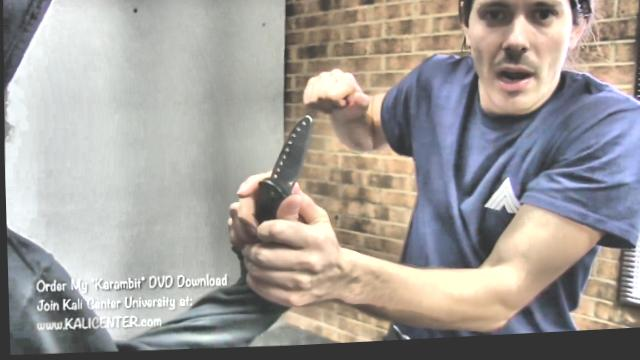knife: (217, 112, 318, 252)
